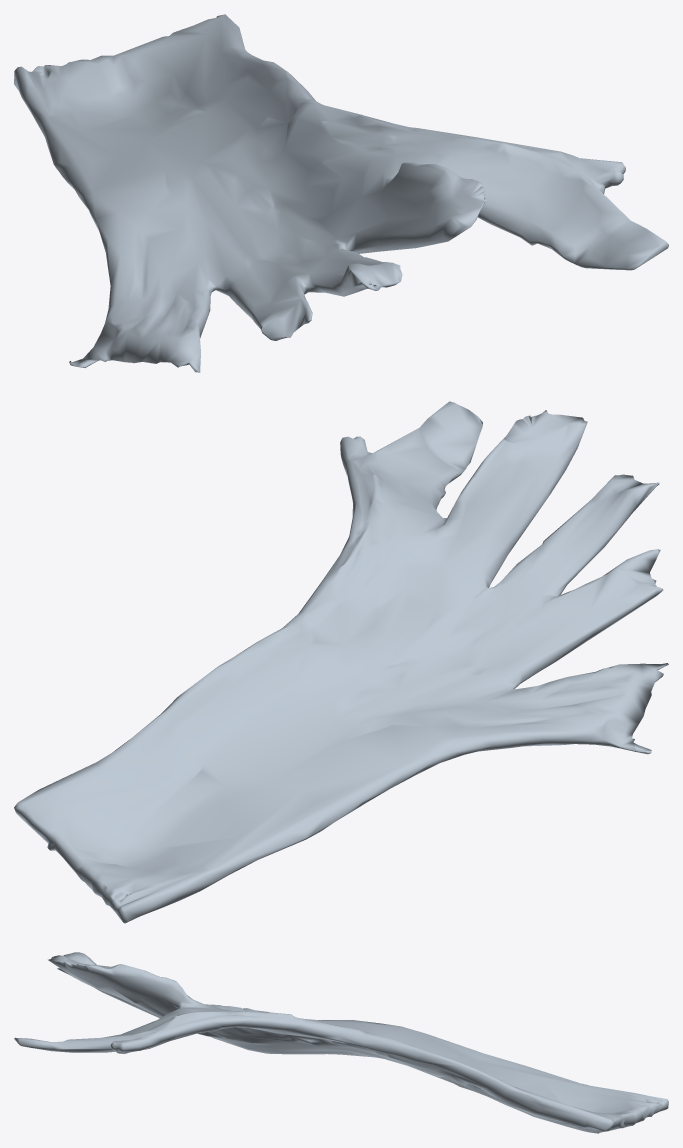
The model's file is long-plantar-ligament-r.glb.
3 renders of one model, top to bottom at view 1: azimuth 30°, elevation 25°; view 2: azimuth 150°, elevation 25°; view 3: azimuth 270°, elevation 25°, orthographic. The views are drawn at different scales.
Visible parts, largest first — view 1: Long plantar ligament.r; view 2: Long plantar ligament.r; view 3: Long plantar ligament.r.
Boxes of the visible parts, x1,y1,x2,y2 form: Long plantar ligament.r: (14,14,668,372); Long plantar ligament.r: (14,401,668,923); Long plantar ligament.r: (14,952,668,1133).
Size of the model in its own units: 0.0508 by 0.0254 by 0.0998.
